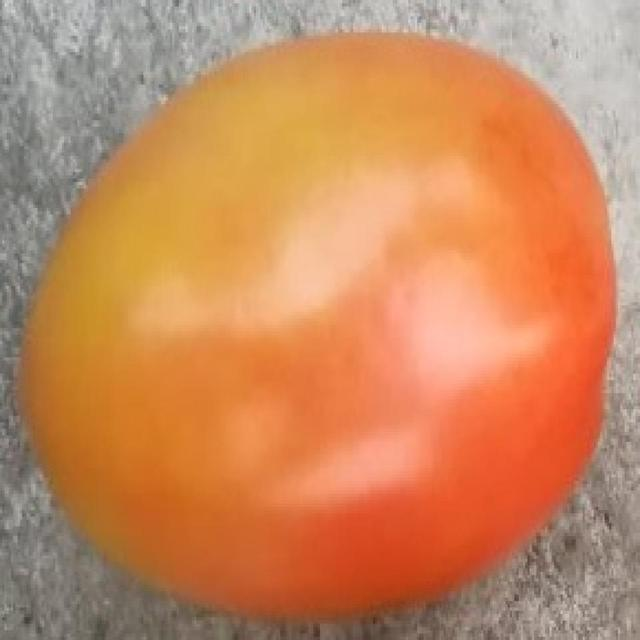Spotted wilt Virus Fruit: (54, 26, 96, 173)
